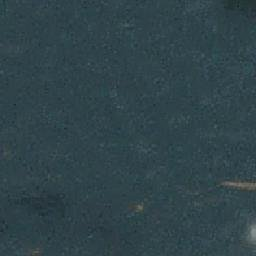cloud: (223, 213, 256, 249)
debris: (217, 180, 256, 192), (123, 202, 145, 212)
